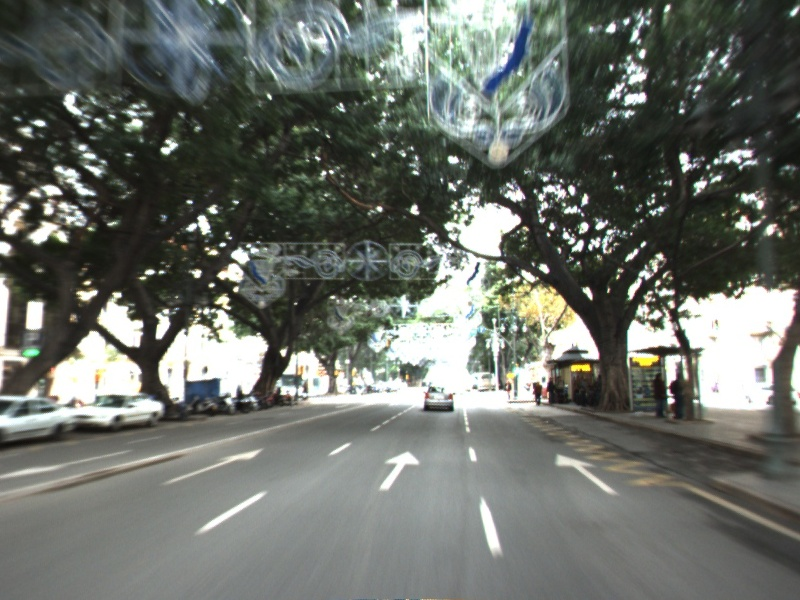STRAIGHT: (156, 446, 268, 488), (552, 451, 623, 498), (375, 449, 423, 493)
